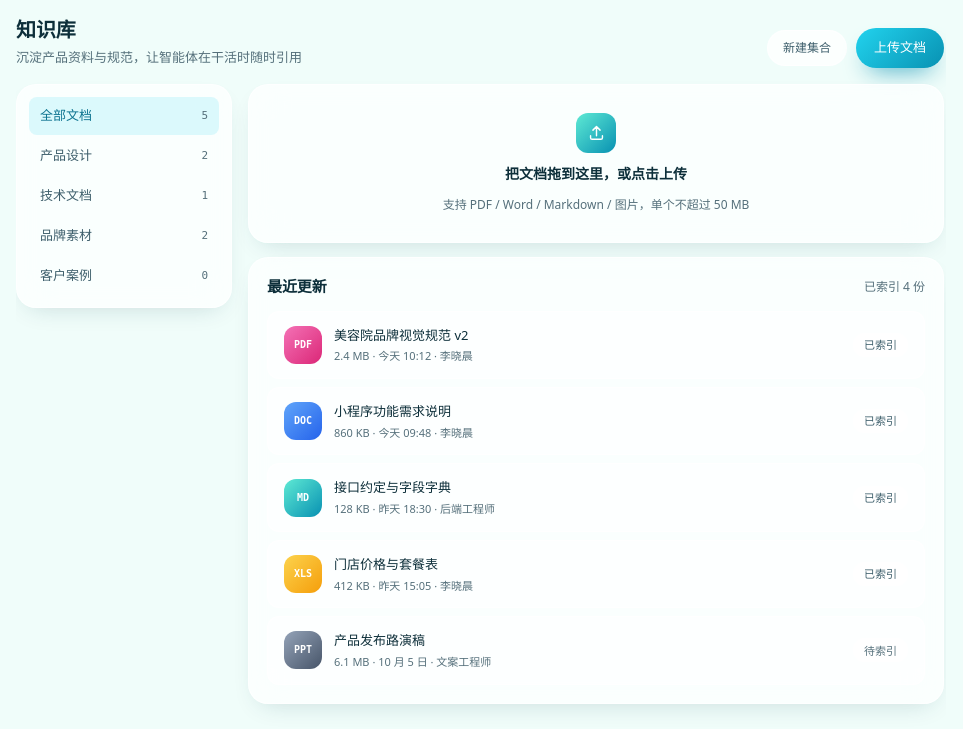
Test: an empty category explains itself instead of showing a blank panel
Expected: the heading "知识库" is shown, [16,16,76,43]
Click the button "客户案例 0" at (124, 276), box [29,257,219,295]
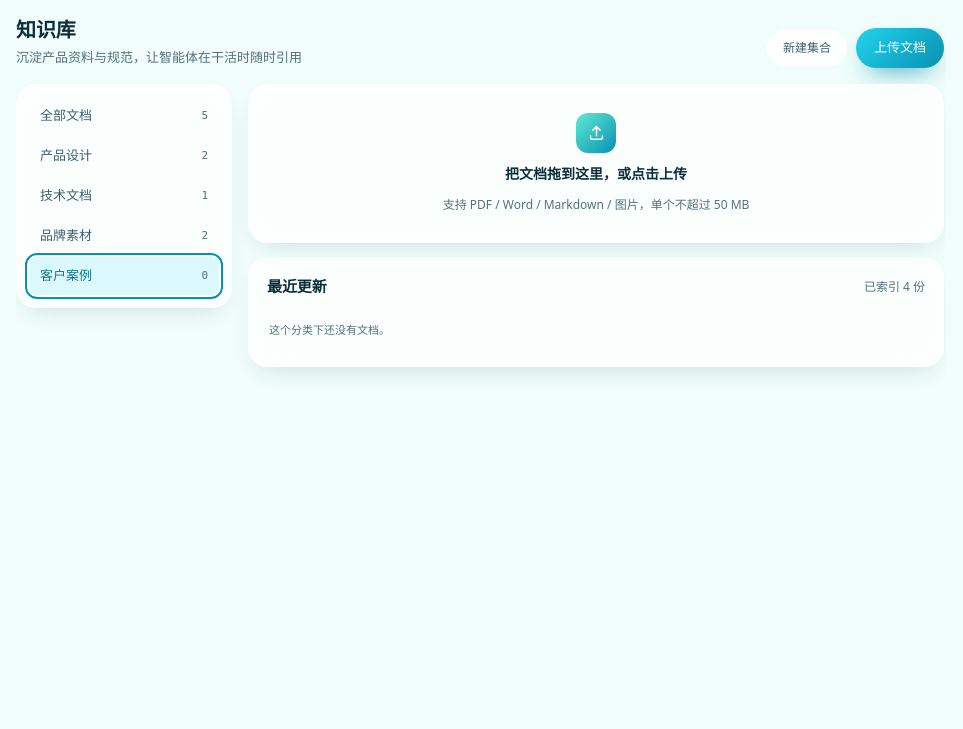
Expected: the text "这个分类下还没有文档。" is shown, [269,322,390,337]
